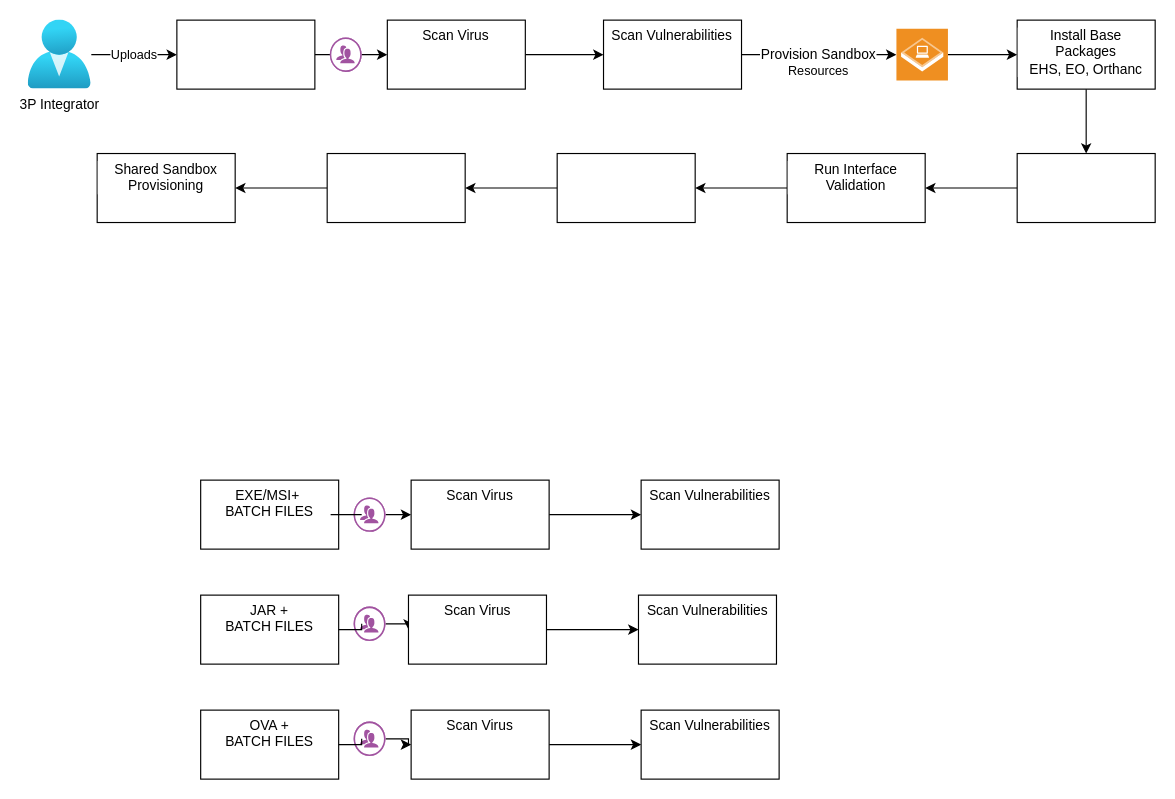
This 1175x799 diagram has some shape labels left out. Each missing label, with the box of its shape:
Automated Test Case Execution: (326, 152, 465, 223)
Dockers + HELMS: (176, 19, 315, 89)
Install 3P: (1016, 152, 1155, 223)
Sandbox access to Integrator: (556, 152, 695, 223)
